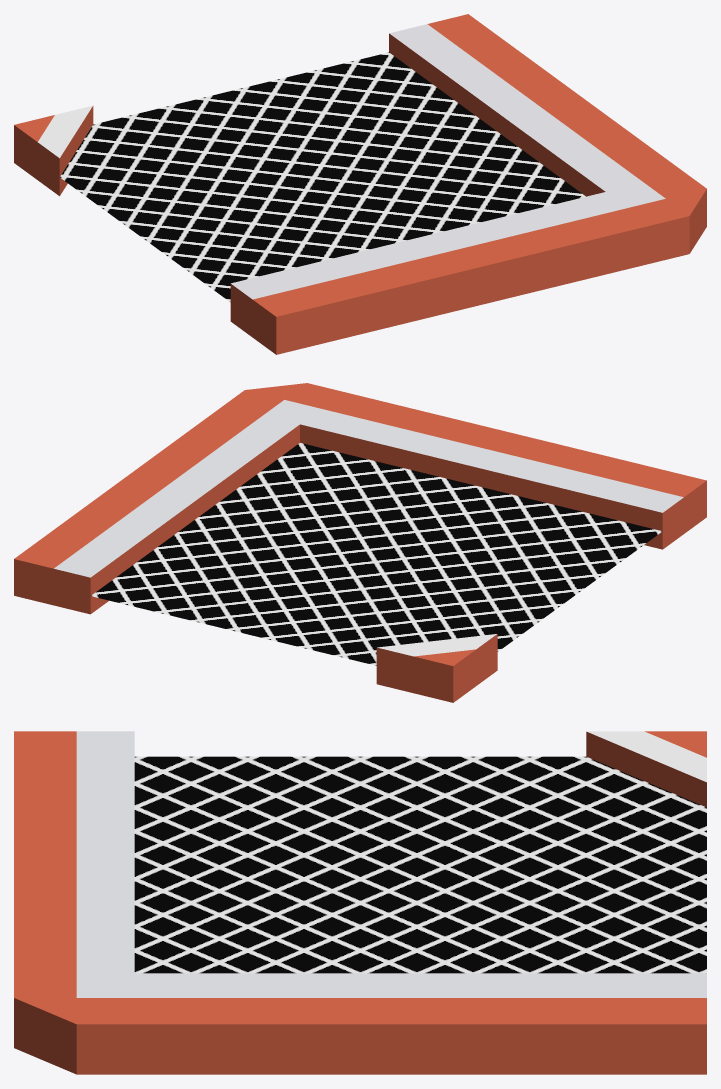
File: metalTileConnectCornerInner.glb
3 views of the same model, one above another, from view 1: azimuth 30°, elevation 25°; view 2: azimuth 150°, elevation 25°; view 3: azimuth 270°, elevation 25° (orthographic). The views are drawn at different scales.
Visible parts, largest first — view 1: metalTileConnectCornerInner; view 2: metalTileConnectCornerInner; view 3: metalTileConnectCornerInner.
Part boxes in pixels (left/top/right/bottom): metalTileConnectCornerInner: left=14, top=14, right=706, bottom=354; metalTileConnectCornerInner: left=14, top=383, right=706, bottom=702; metalTileConnectCornerInner: left=14, top=731, right=706, bottom=1074.
Size of the model in its own units: 10 by 0.8 by 10.
Materials: 4 (1 with a texture image).
